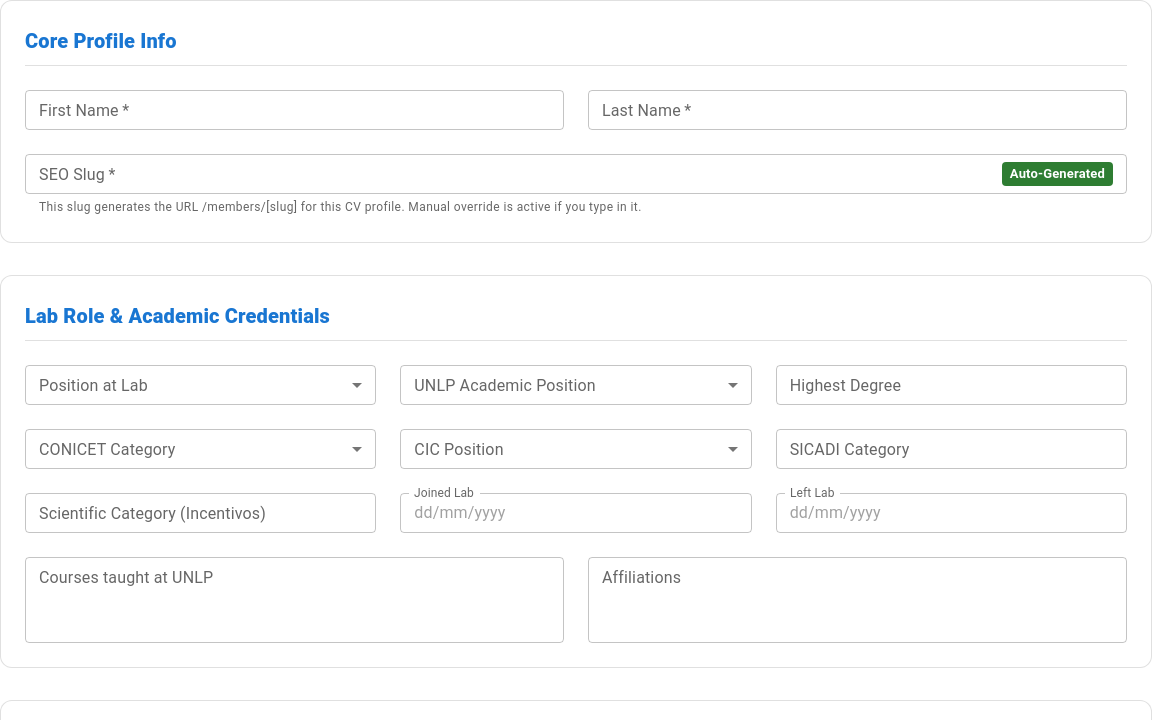
MemberForm Component › automatically generates slug from First Name and Last Name changes
The width and height of the screenshot is (1152, 720).
Step 1. Type "Juan" into the field labelled "First Name *" → coordinates (294, 110), box [25, 90, 564, 130]
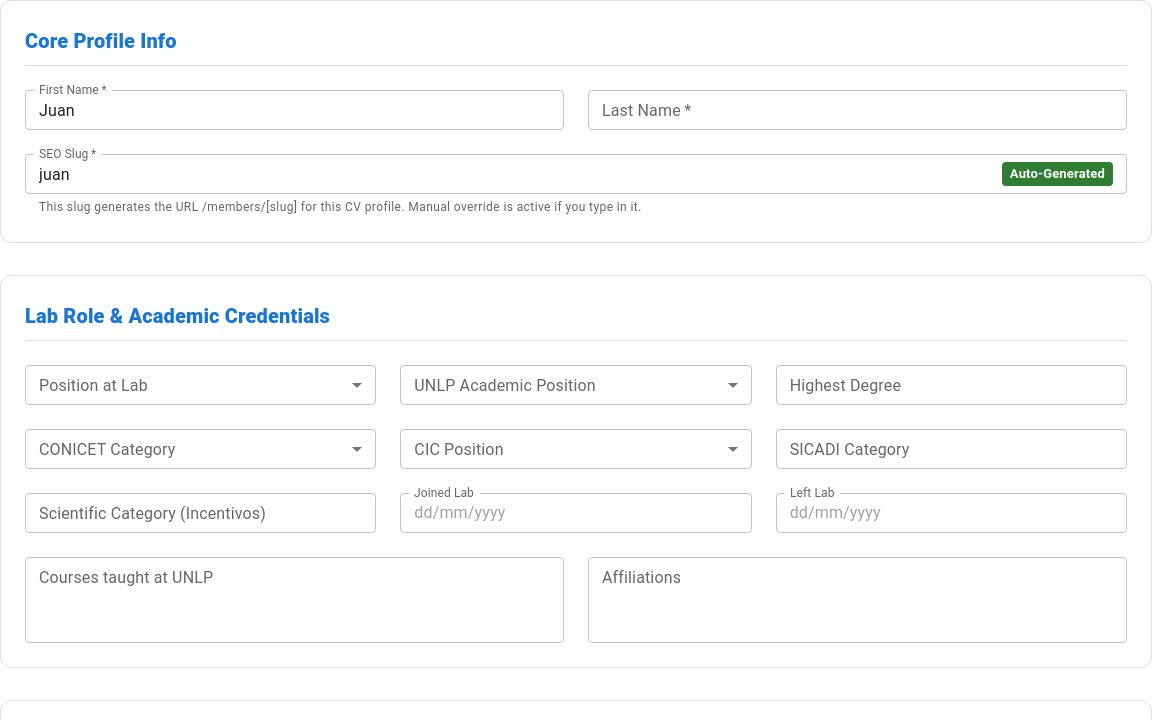
Step 2. Type "Perez" into the field labelled "Last Name *" → coordinates (858, 110), box [588, 90, 1127, 130]
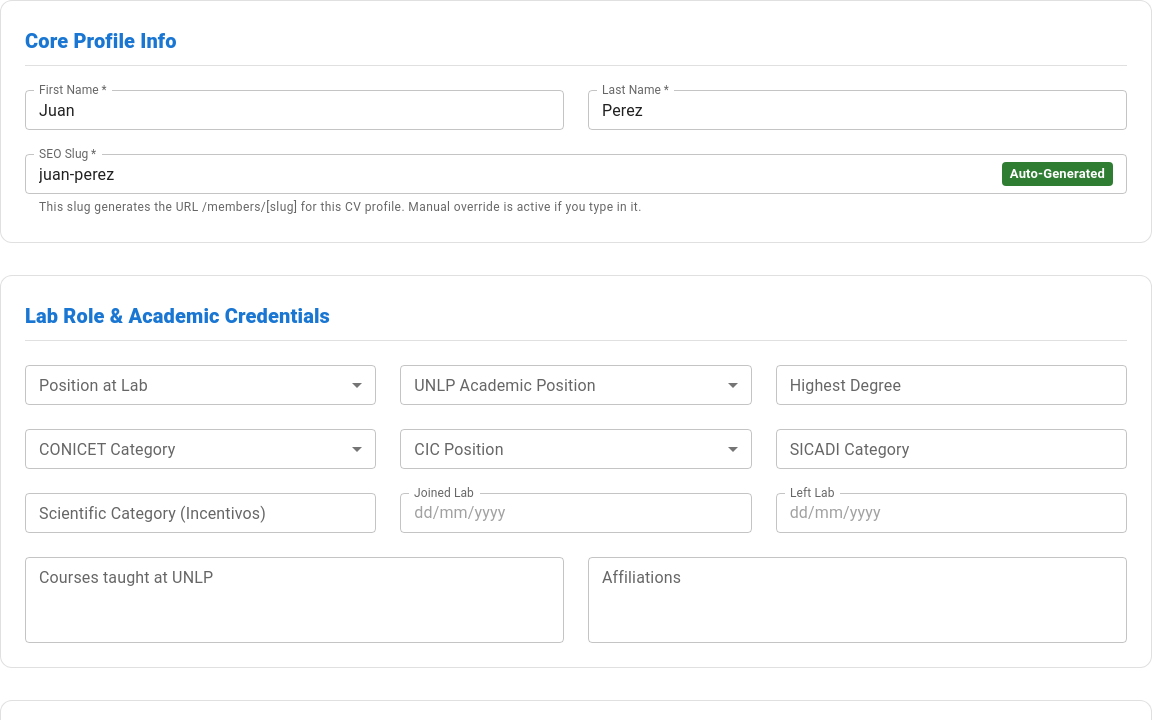
Now the field labelled "SEO Slug *" holds "juan-perez", box [25, 154, 994, 194]
